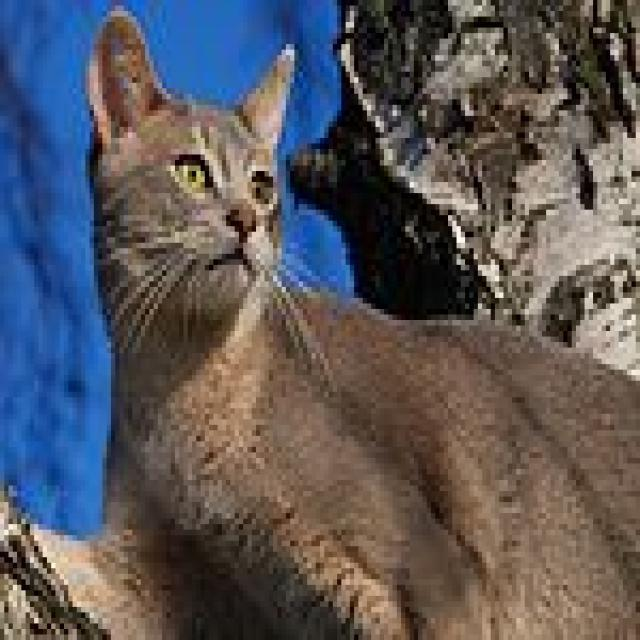Abyssinian: (81, 10, 299, 339)
